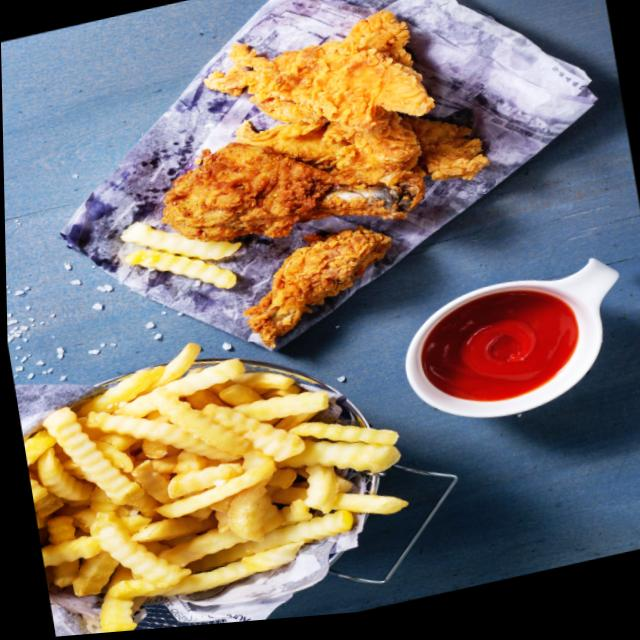french fries: (16, 302, 416, 639), (123, 201, 251, 308)
fried_chicken: (143, 0, 495, 265), (232, 221, 400, 353)
ketchup: (408, 272, 600, 423)
